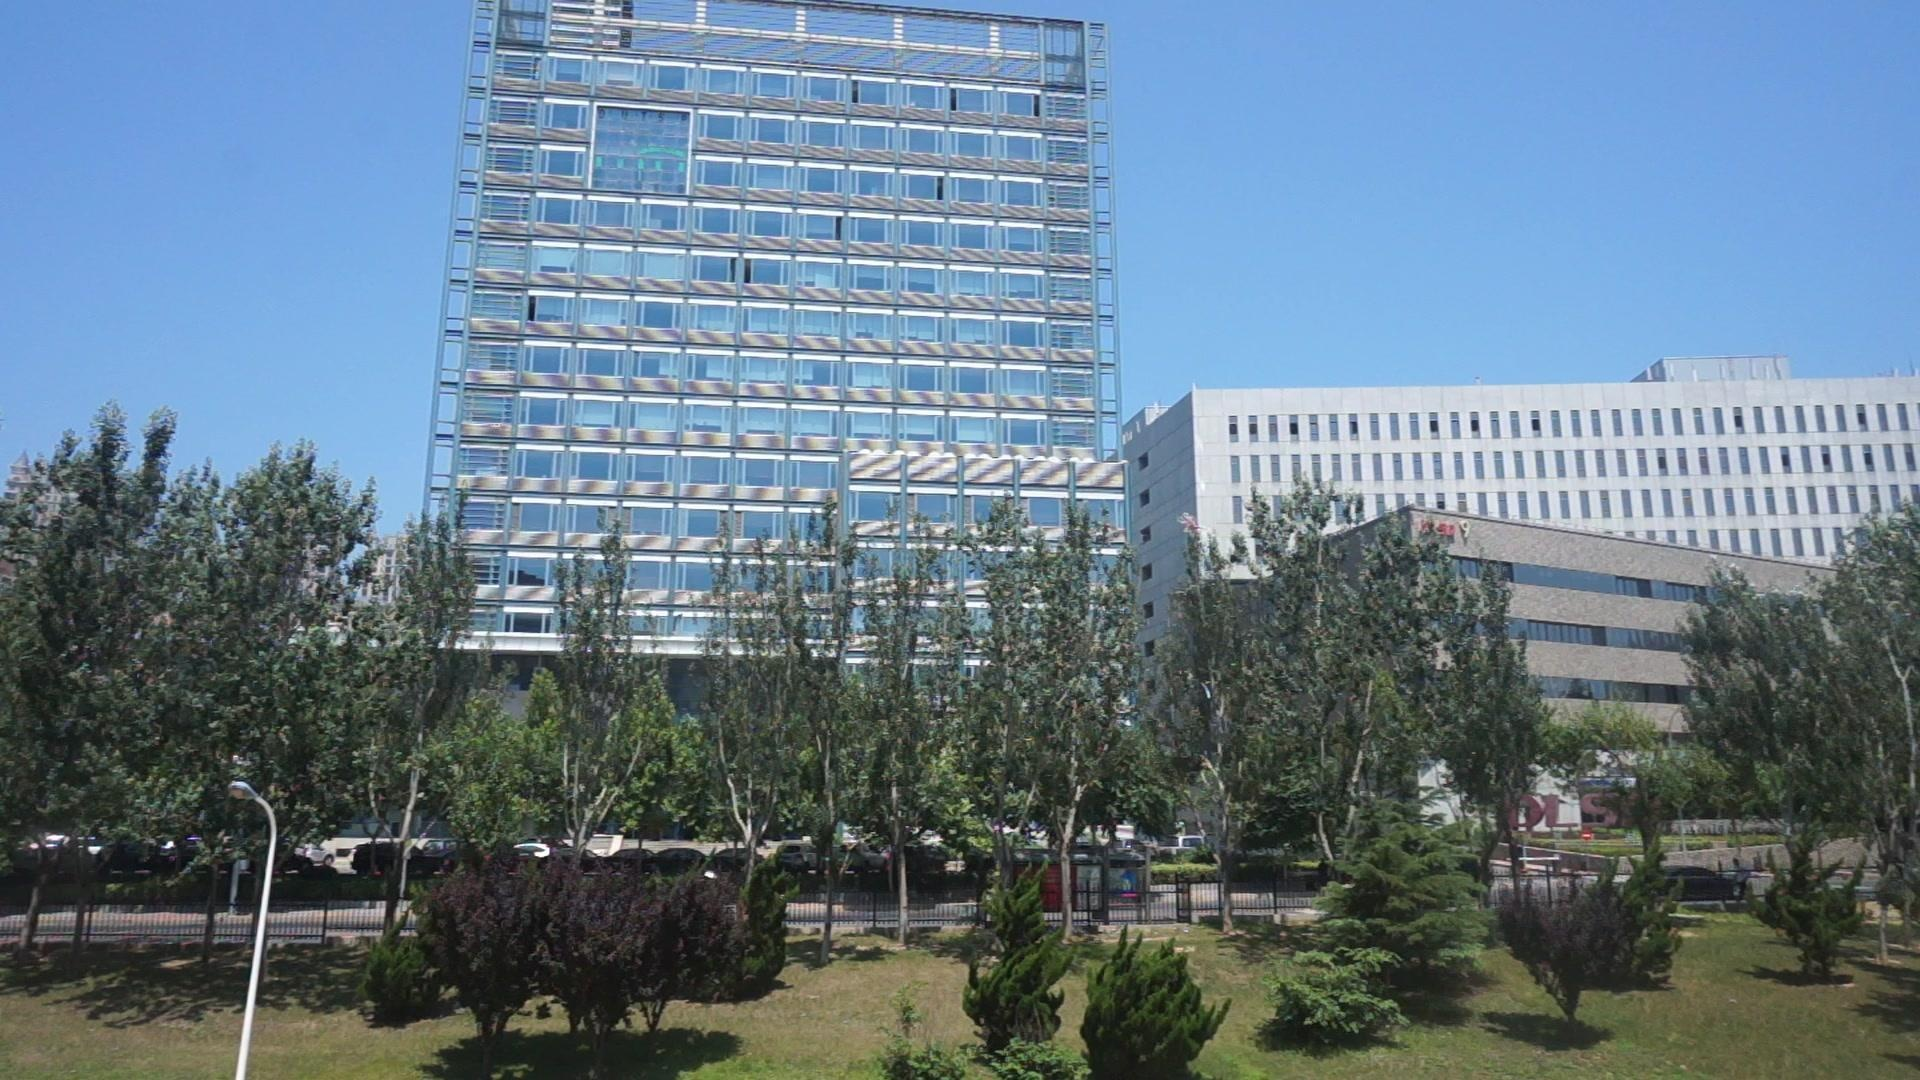UAV: (1178, 513, 1207, 537)
